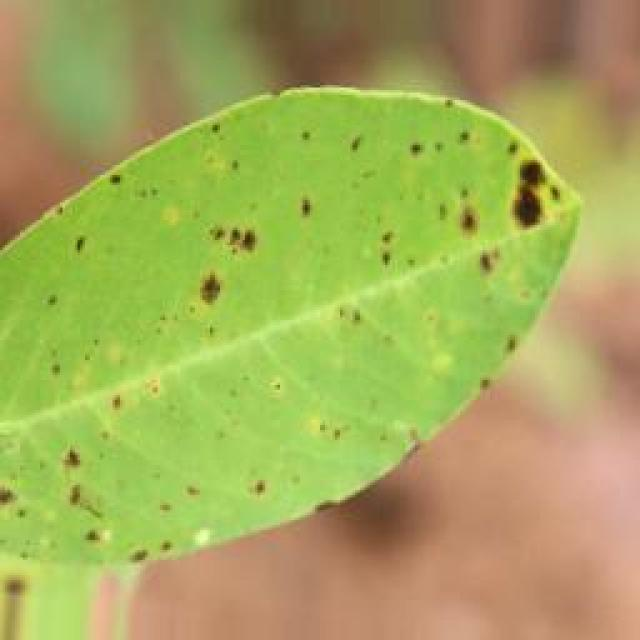Yellowish: (22, 80, 584, 570)
